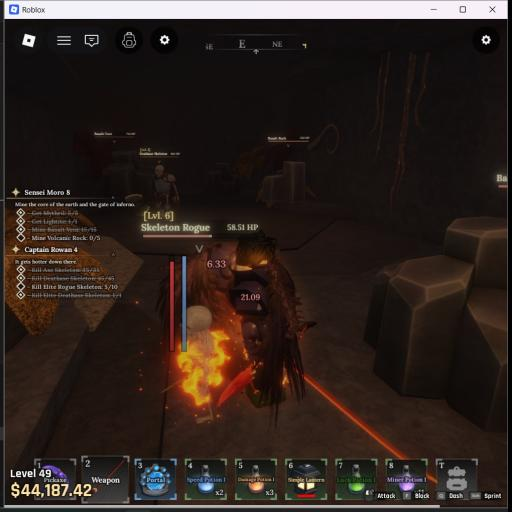player: (188, 230, 315, 422)
rock: (374, 217, 508, 431), (102, 150, 154, 197), (262, 162, 305, 202)
